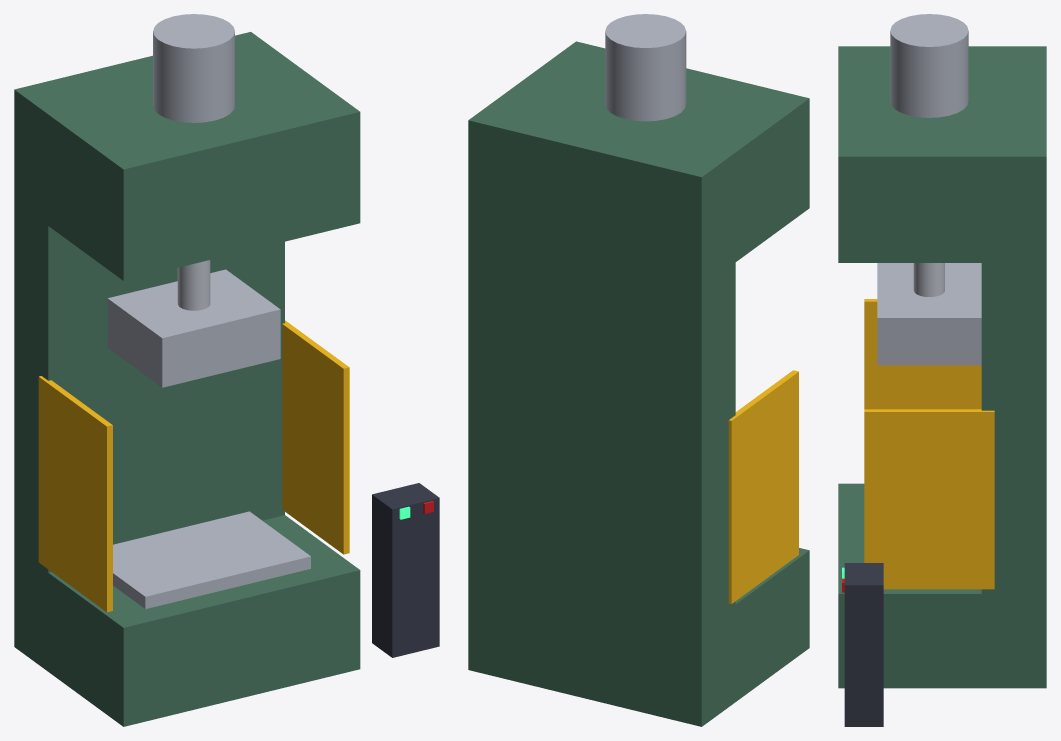
Rendered from ind-009.glb.
3 renders of one model, left to right at view 1: azimuth 30°, elevation 25°; view 2: azimuth 150°, elevation 25°; view 3: azimuth 270°, elevation 25°, orthographic. The views are drawn at different scales.
Parts seen in each view (by area): view 1: crown, column, base, guard_left, ram, guard_right, bolster, control_stand, cylinder, ram_rod; view 2: column, crown, base, guard_left, cylinder; view 3: crown, guard_right, column, base, ram, cylinder, control_stand, guard_left, ram_rod.
Boxes of the visible parts, box(x1,y1,x2,y2) form: crown: box(14, 32, 360, 280); column: box(14, 201, 284, 572); base: box(14, 515, 360, 726); guard_left: box(38, 376, 112, 612); ram: box(107, 269, 280, 387); guard_right: box(282, 320, 349, 554); bolster: box(113, 511, 310, 608); control_stand: box(372, 483, 439, 657); cylinder: box(153, 14, 234, 122); ram_rod: box(177, 260, 210, 310); column: box(468, 230, 735, 629); crown: box(468, 41, 809, 286); base: box(468, 548, 809, 726); guard_left: box(728, 370, 798, 603); cylinder: box(605, 14, 686, 121); crown: box(838, 46, 1046, 262); guard_right: box(864, 409, 994, 589); column: box(981, 263, 1046, 593); base: box(838, 483, 1046, 688); ram: box(877, 263, 981, 365); cylinder: box(890, 14, 968, 117); control_stand: box(844, 563, 883, 726); guard_left: box(864, 299, 981, 409); ram_rod: box(913, 263, 944, 296).
Bounding box in the file's own units: 2.73 × 5.1 × 1.6.
